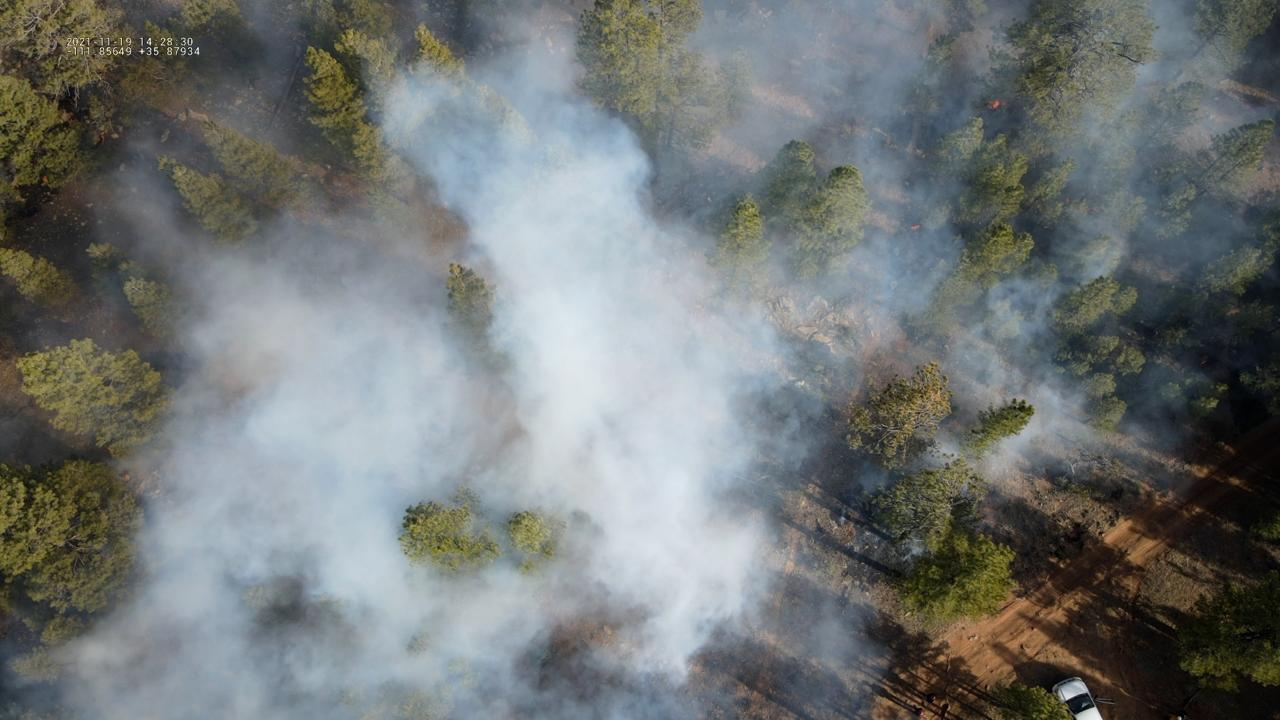fire: (986, 97, 1003, 113), (909, 221, 922, 231), (42, 174, 49, 186)
smoke: (0, 0, 1280, 720)
